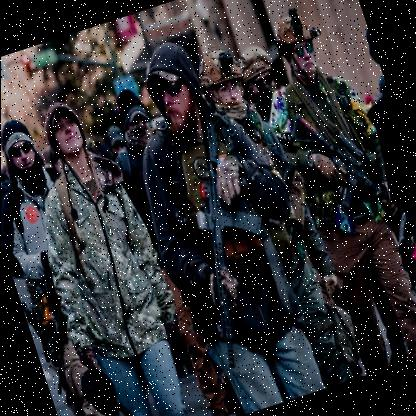rifle: (145, 96, 312, 373), (282, 88, 398, 235), (14, 257, 101, 402)
